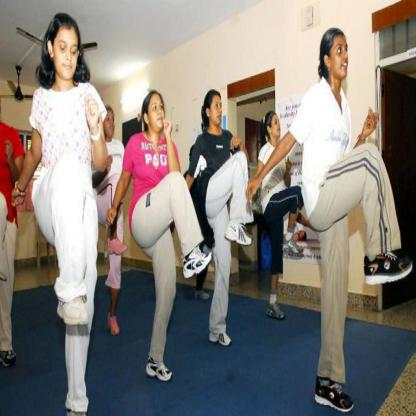face: (54, 27, 79, 80), (332, 36, 349, 77), (150, 94, 165, 131), (211, 97, 223, 125), (104, 111, 115, 137), (272, 116, 282, 136)
